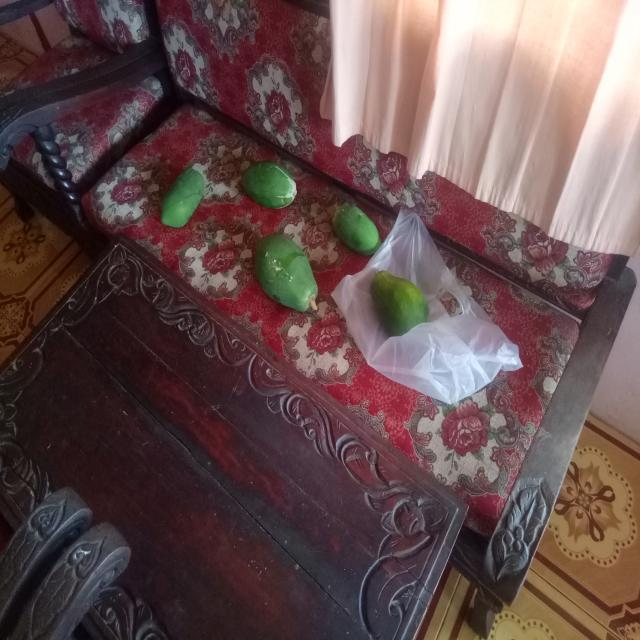Pepaya unrippen: (263, 236, 327, 327), (151, 163, 204, 241), (372, 272, 431, 341), (244, 159, 296, 212), (337, 202, 378, 260)
